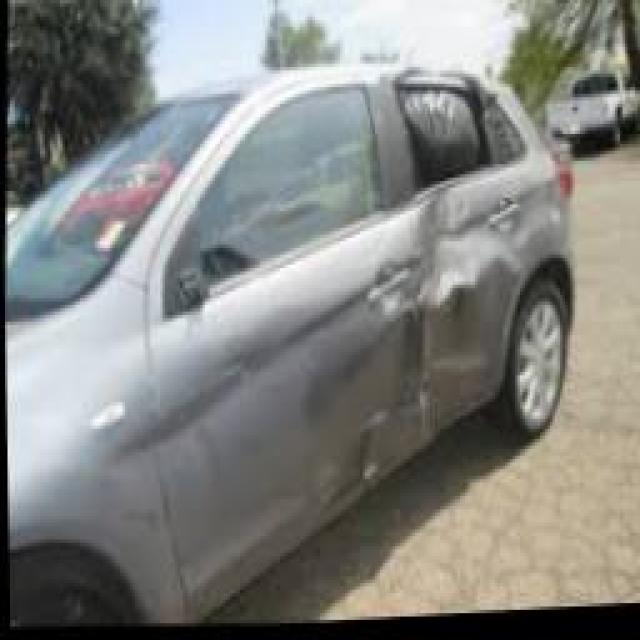rapairable: (349, 408, 389, 493)
replaceable: (418, 190, 507, 443), (393, 74, 485, 178)
